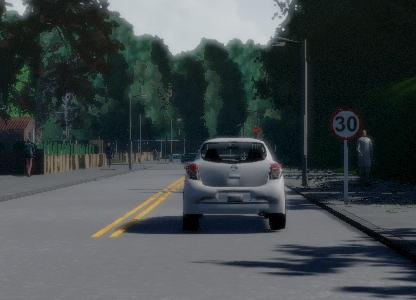Speed_30: (328, 104, 363, 143)
